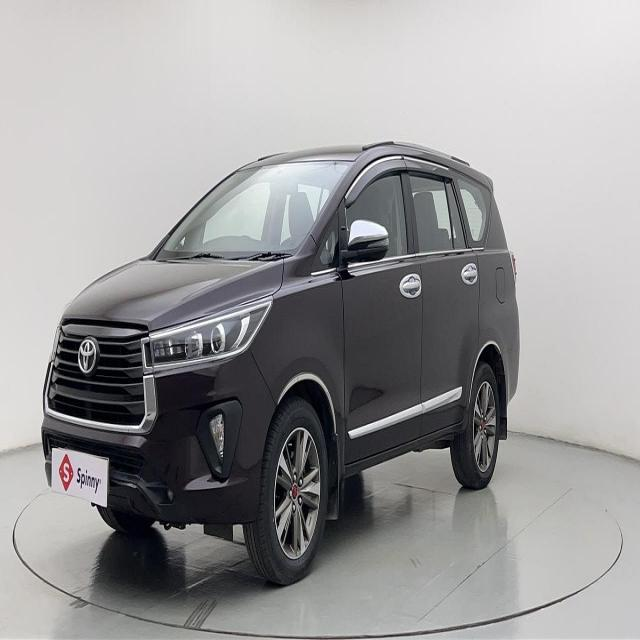light_vehicle: (41, 141, 521, 585)
